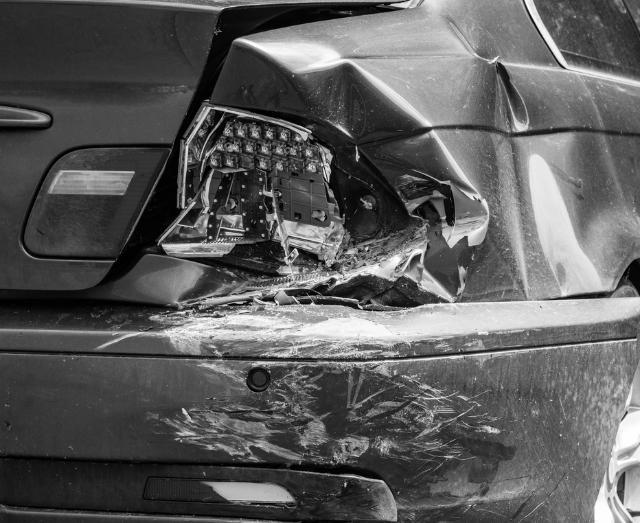Bumper: (109, 291, 571, 509)
Fender: (327, 51, 611, 249)
Light: (164, 131, 415, 269)
